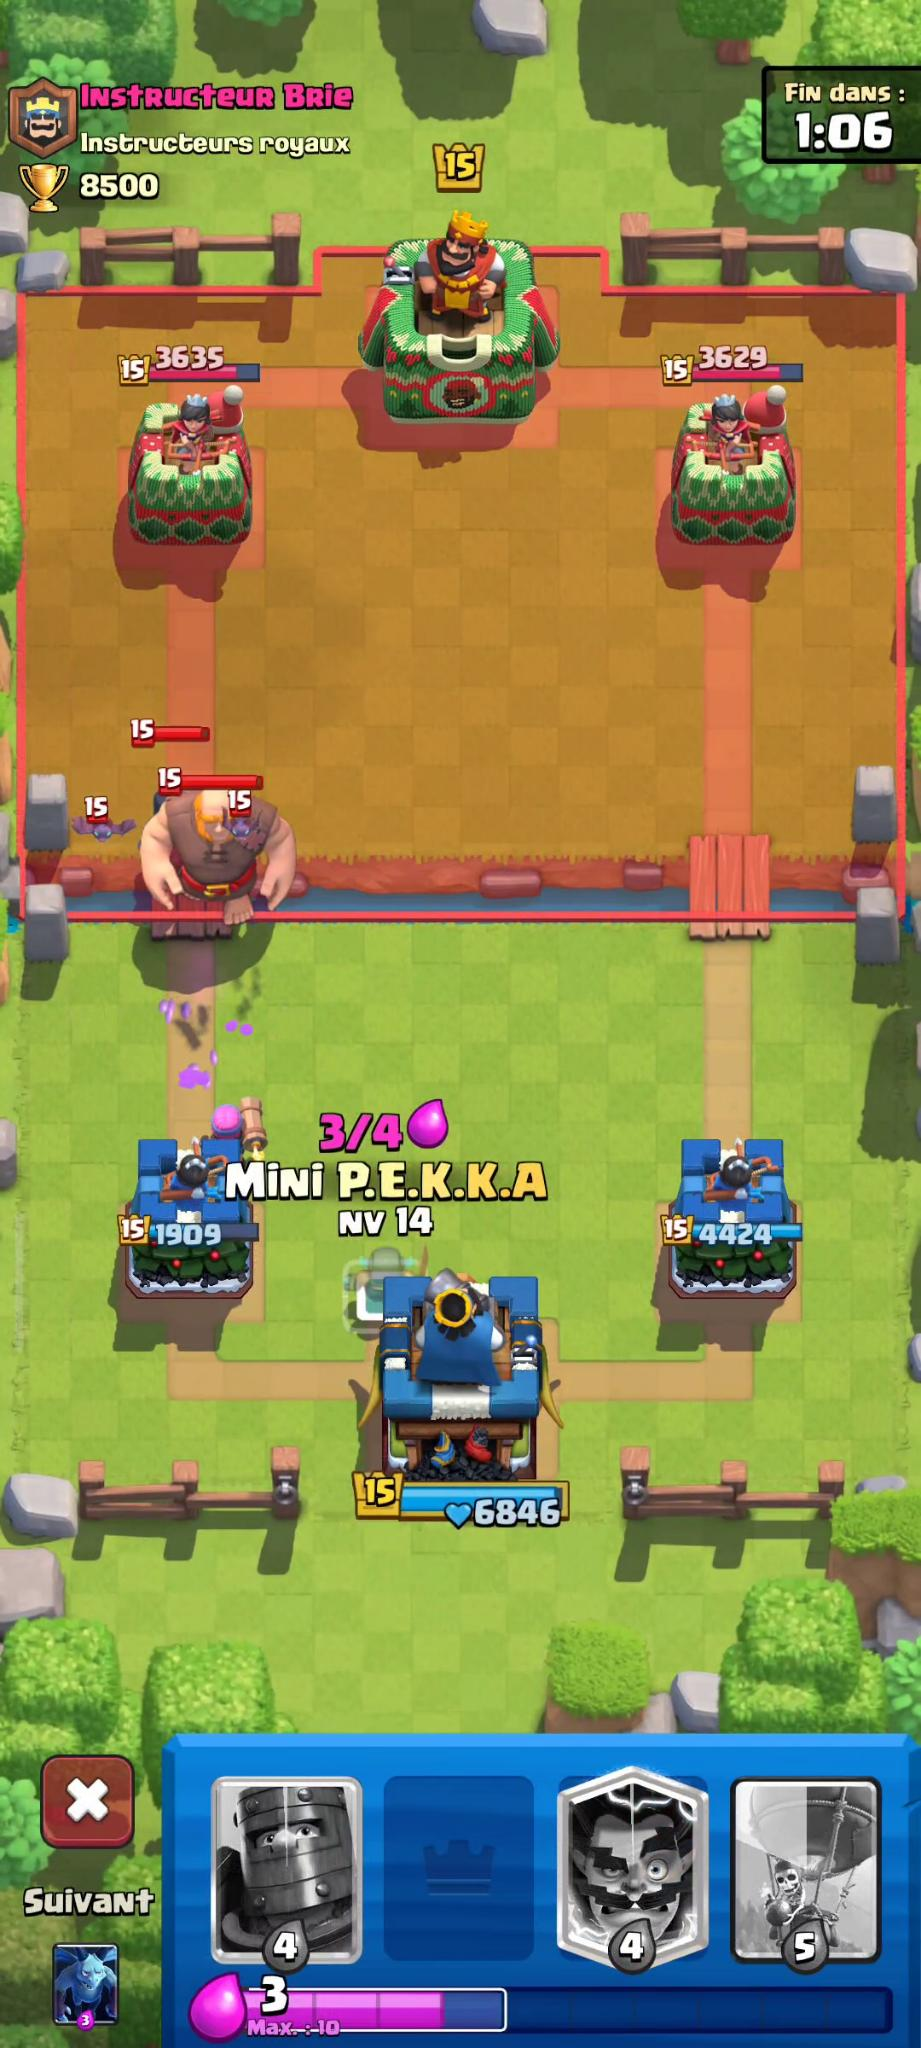bat: (74, 784, 136, 853), (210, 795, 272, 857)
geant: (132, 775, 319, 946)
mini_PEKKA: (346, 1241, 445, 1354)
